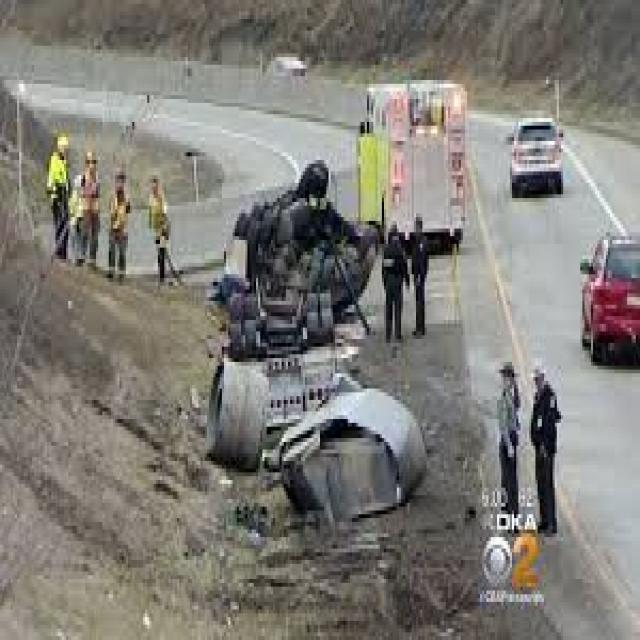accident: (170, 267, 436, 561)
